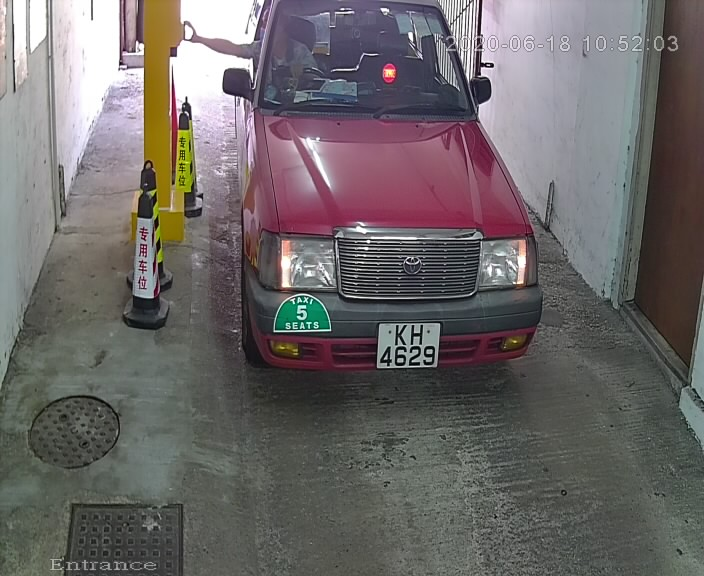taxi: (211, 2, 552, 409)
taxi_mark: (272, 287, 337, 343)
